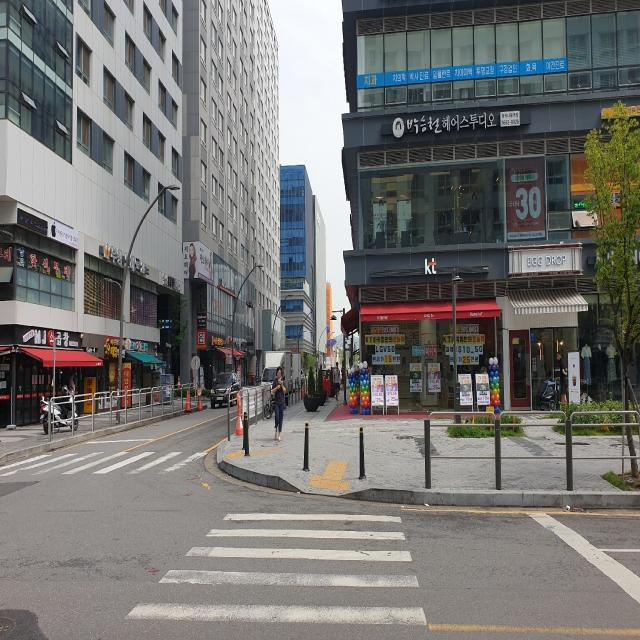횡단보도: (123, 511, 428, 630), (0, 440, 210, 486)
